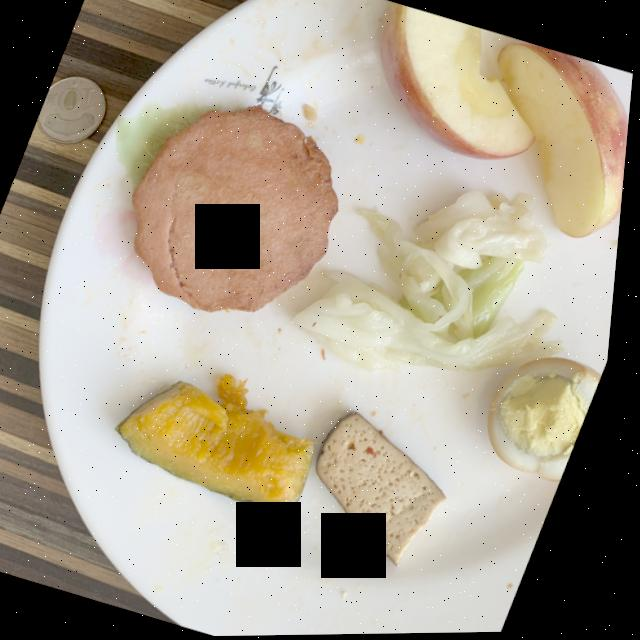Spam: (134, 106, 341, 313)
apple -sliced-: (380, 3, 631, 239)
cabbage: (299, 191, 560, 371)
coin: (38, 76, 106, 143)
firm tofu: (323, 413, 454, 565)
pumpkin: (124, 374, 321, 509)
soy egg: (494, 359, 608, 483)
